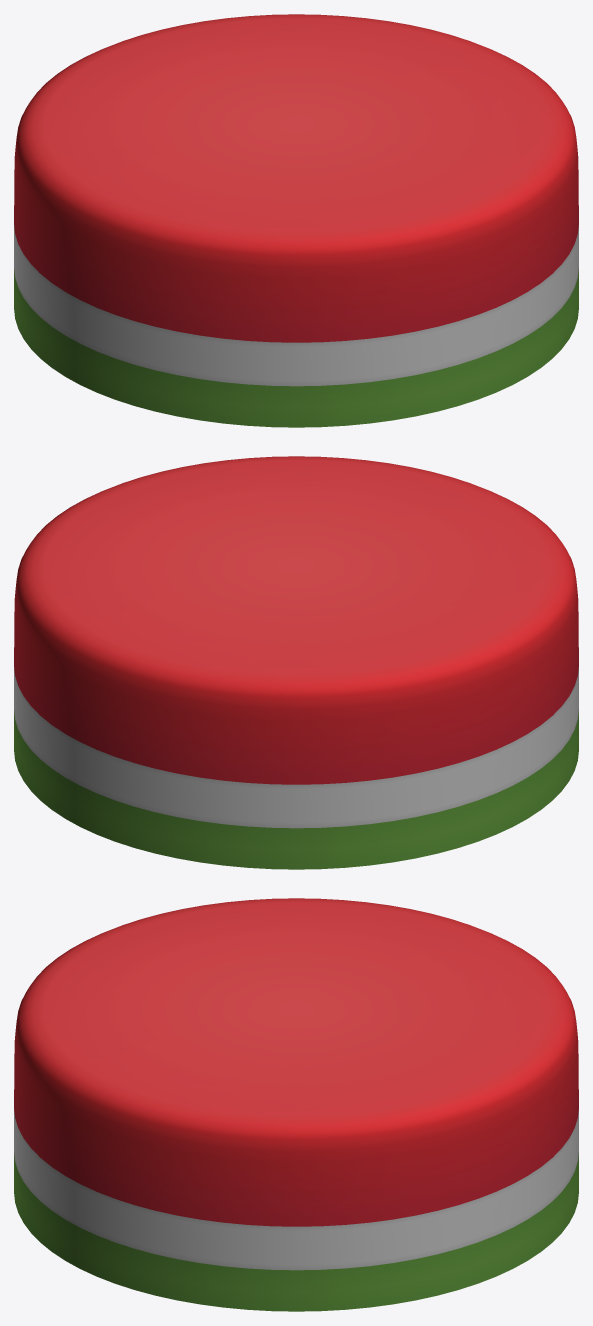
File: cake003.FBX
3 views of the same model, one above another, from view 1: azimuth 30°, elevation 25°; view 2: azimuth 150°, elevation 25°; view 3: azimuth 270°, elevation 25° (orthographic).
Parts seen in each view (by area): view 1: cake003; view 2: cake003; view 3: cake003.
Boxes of the visible parts, x1,y1,x2,y2 form: cake003: (14, 14, 578, 427); cake003: (14, 456, 578, 869); cake003: (14, 898, 578, 1311).
Bounding box in the file's own units: 0.0193 × 0.00693 × 0.0193.
